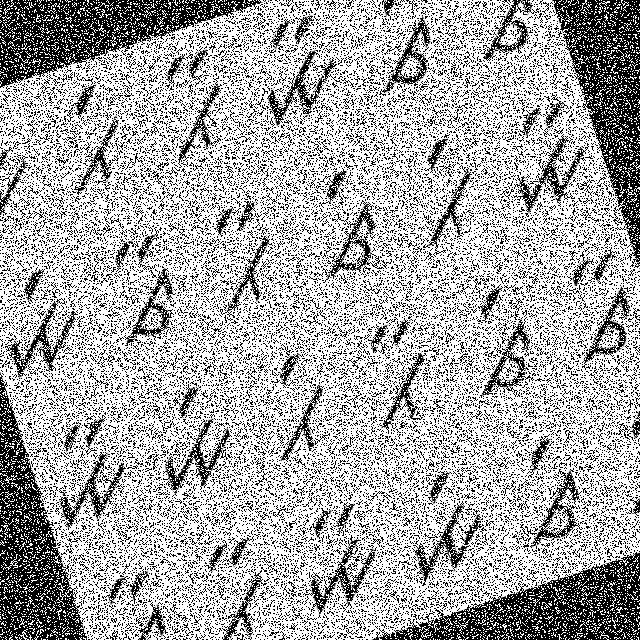ban: (142, 39, 250, 174), (346, 302, 453, 438), (192, 192, 300, 322), (181, 526, 287, 639)
bang: (38, 76, 144, 206), (244, 338, 348, 469), (391, 120, 493, 251), (586, 396, 639, 527)
can: (92, 228, 194, 355), (543, 244, 639, 376), (81, 555, 187, 639), (442, 0, 550, 72)
cang: (448, 269, 555, 405), (289, 154, 396, 287), (495, 428, 600, 554), (345, 0, 457, 101)
man: (228, 6, 354, 136), (280, 490, 398, 624), (483, 91, 602, 219), (32, 406, 141, 534)
mang: (128, 373, 252, 507), (388, 455, 503, 584), (0, 252, 95, 388), (0, 104, 47, 233)
